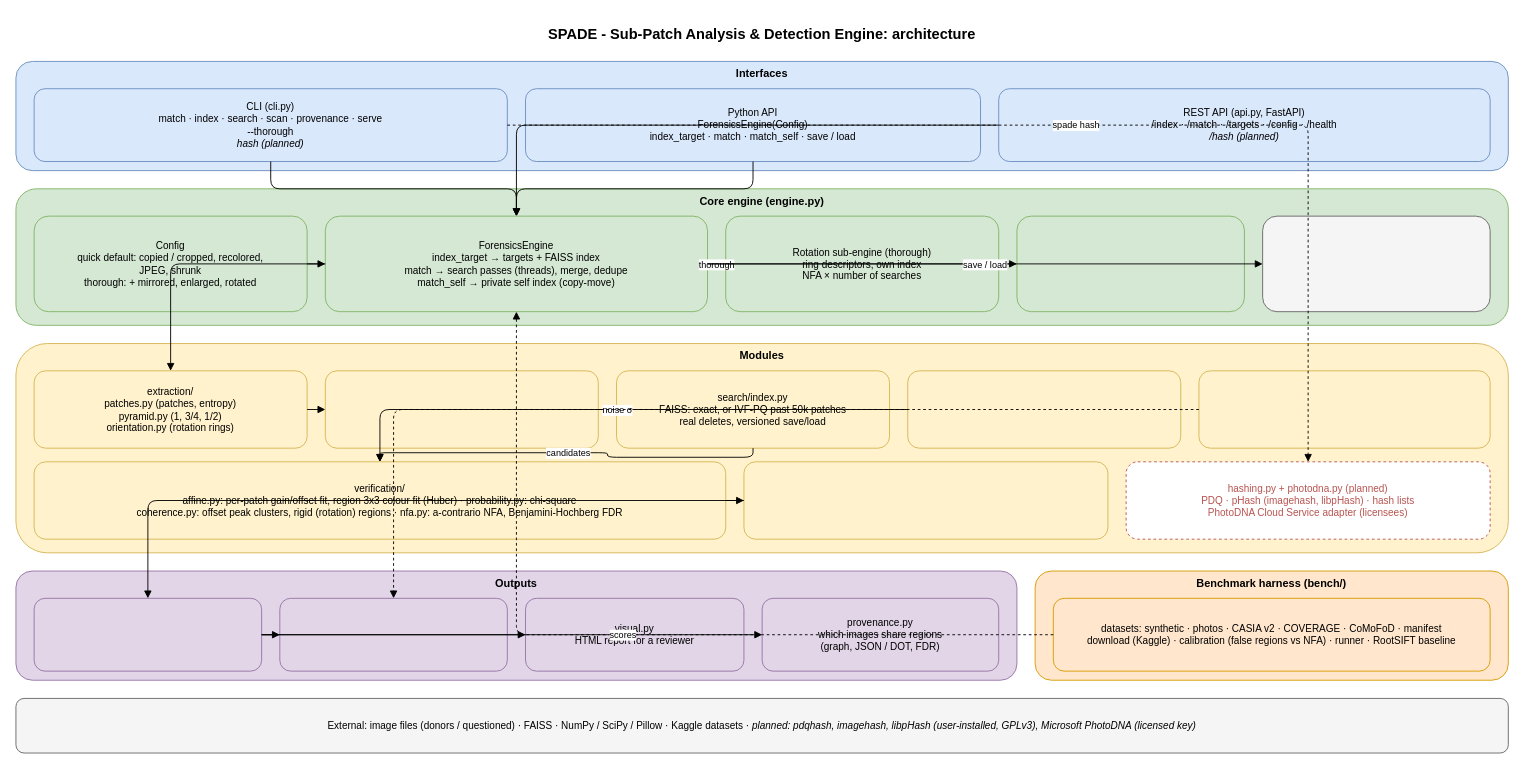
Image size: 1524x769. Some labels were removed from this diagram. Here are the shapes that lost their labels. From the top down, the centre of each, then its label:
pixel 1130 263: Target store uint8 pixels per pyramid level (reloaded from image files)
pixel 1376 263: Saved bundle .index · .meta.json · .engine.json (+ .rotated.* when thorough)
pixel 461 409: descriptors/ LuminanceDescriptor (25-d) RingDescriptor (36-d, rotation mode)
pixel 1044 409: jpeg.py noise level from quantization tables
pixel 1344 409: scale.py native-scale cue for reports
pixel 925 500: aggregation/ MatchList (lazy match objects) · heatmap · localization
pixel 147 634: MatchResult regions + NFA, colour transform, localization mask, heatmap
pixel 393 634: report.py versioned JSON forensic report (SHA-256, config, regions)
